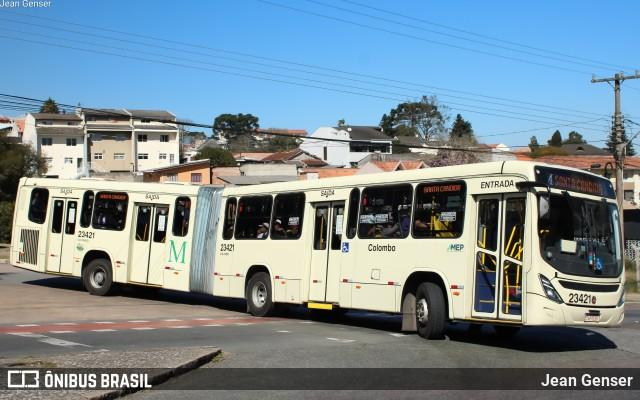SANTA CANDIDA: (552, 170, 605, 199)
